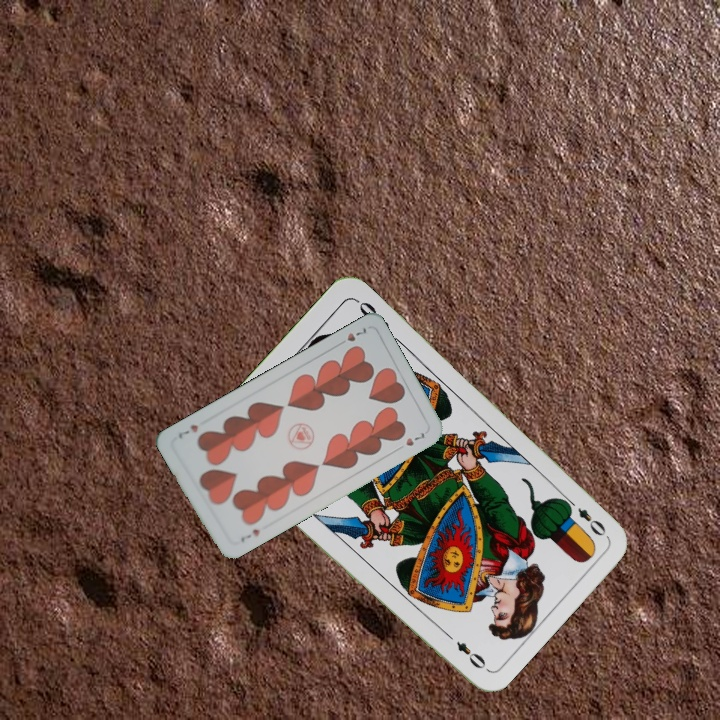EO: (560, 494, 609, 539)
H7: (333, 323, 369, 349), (236, 525, 262, 545)
